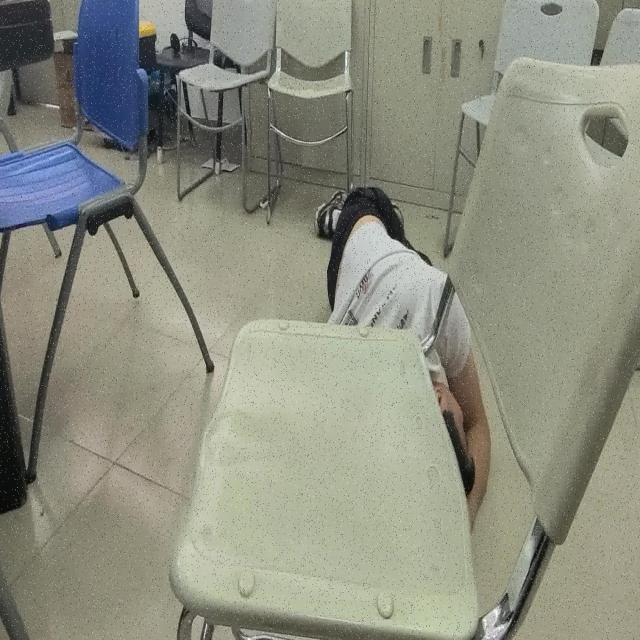fall: (316, 181, 492, 535)
